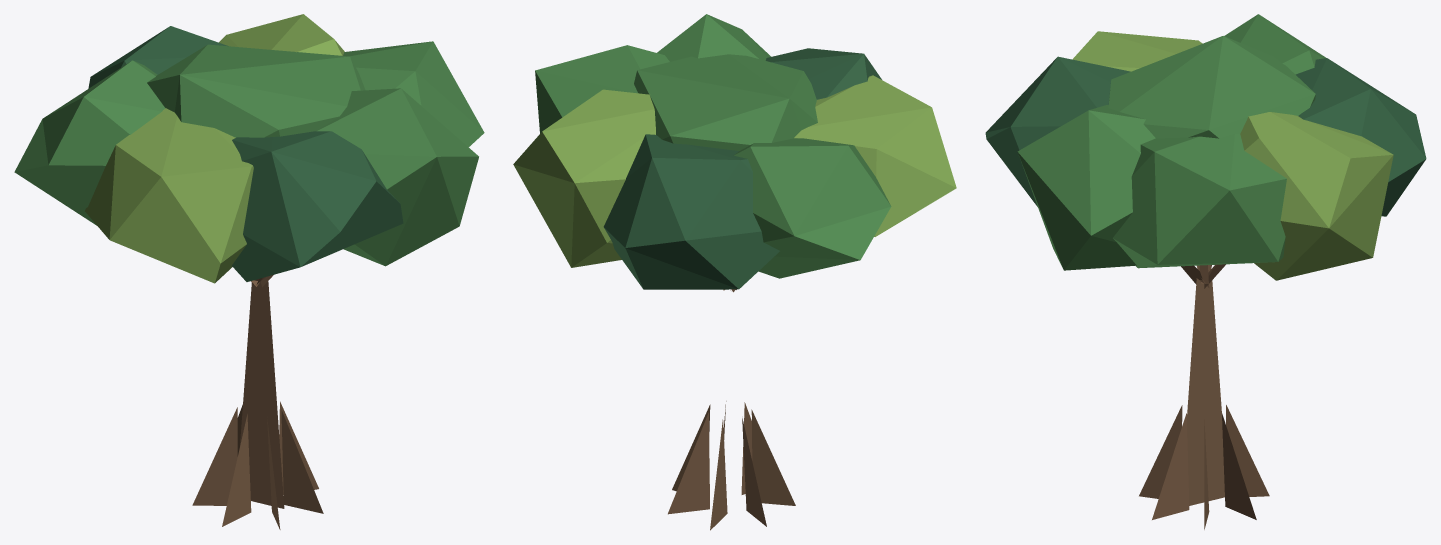
File: tree_broadleaf_low.glb
3 views of the same model, side by side, from view 1: azimuth 30°, elevation 25°; view 2: azimuth 150°, elevation 25°; view 3: azimuth 270°, elevation 25° (orthographic). The views are drawn at different scales.
Visible parts, largest first — view 1: tree_broadleaf.001; view 2: tree_broadleaf.001; view 3: tree_broadleaf.001.
Part boxes in pixels (x1,y1,x2,y2): tree_broadleaf.001: (14,14,484,529); tree_broadleaf.001: (513,14,956,530); tree_broadleaf.001: (985,14,1426,529).
Bounding box in the file's own units: 12.95 × 13.85 × 12.79.
